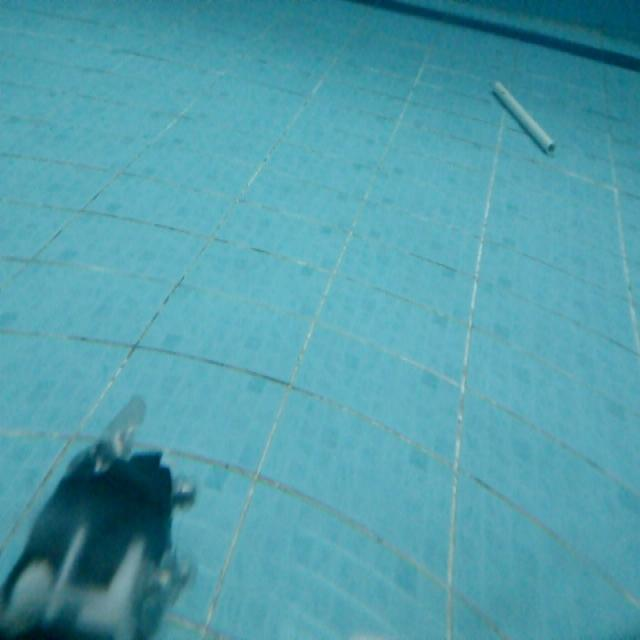Cube: (491, 75, 557, 158)
